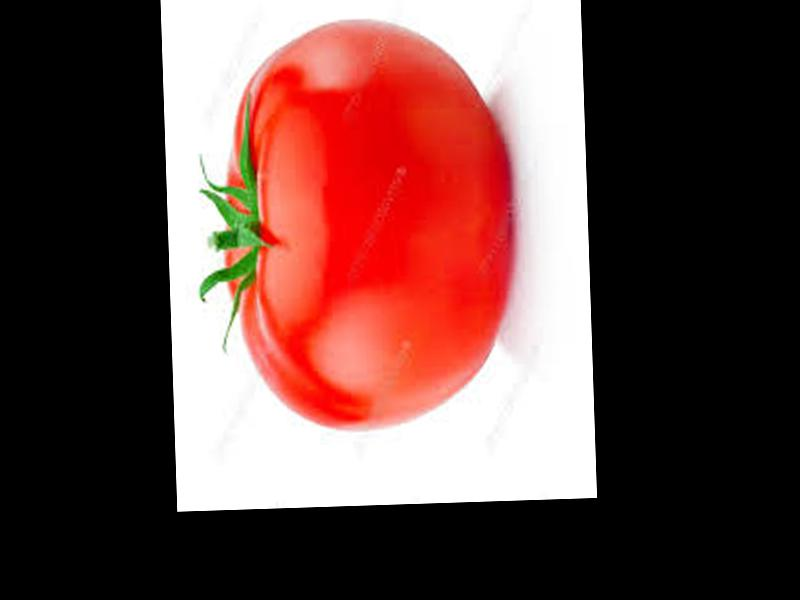Tomato: (218, 15, 510, 434)
